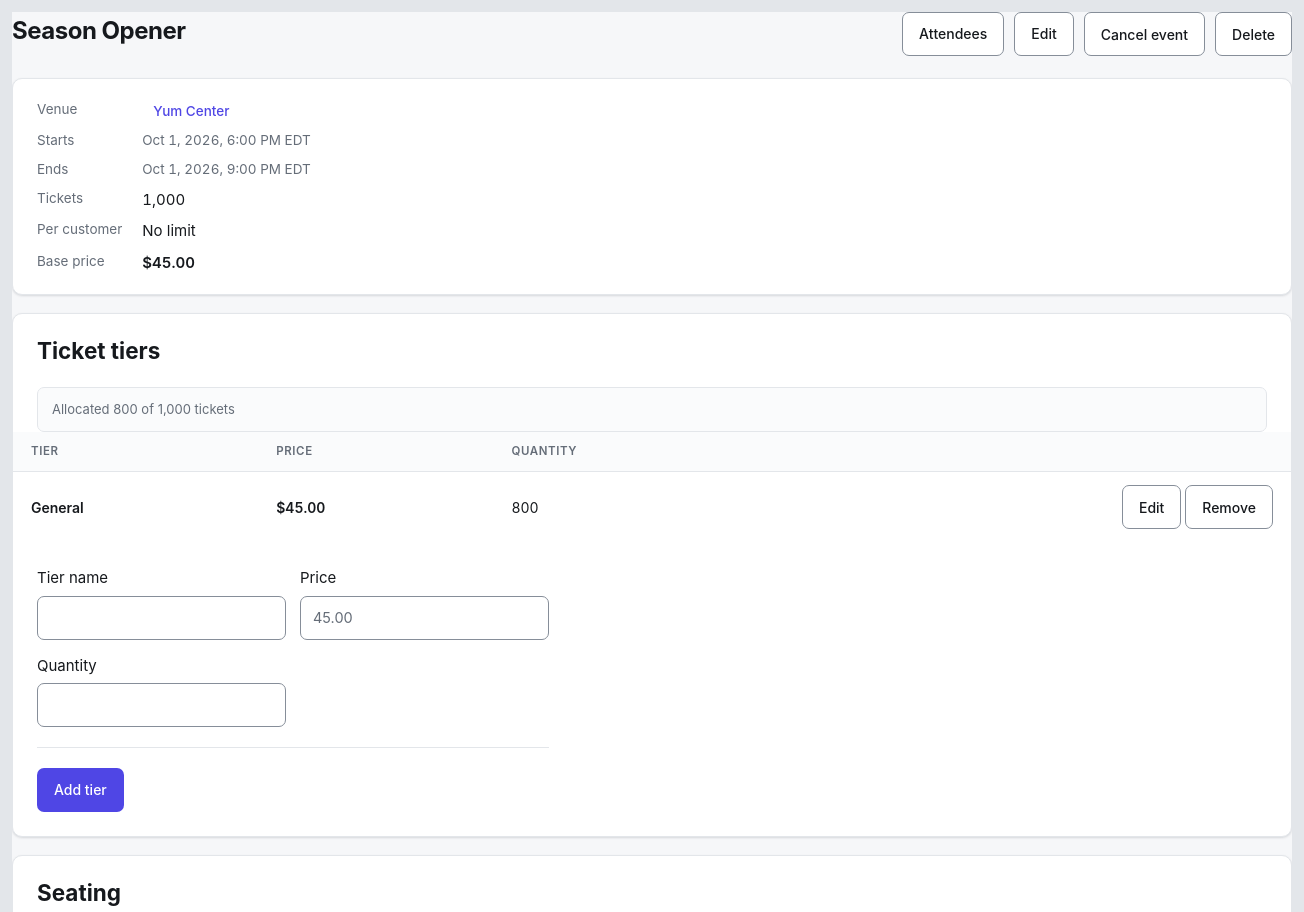
Test: Ticket tiers on the event page › shows a capacity refusal and keeps what was typed
Expected: the text "General" is shown, [13,472,258,542]
In the field labelled "Tier name": (162, 618) [37,596,286,640], type "VIP"
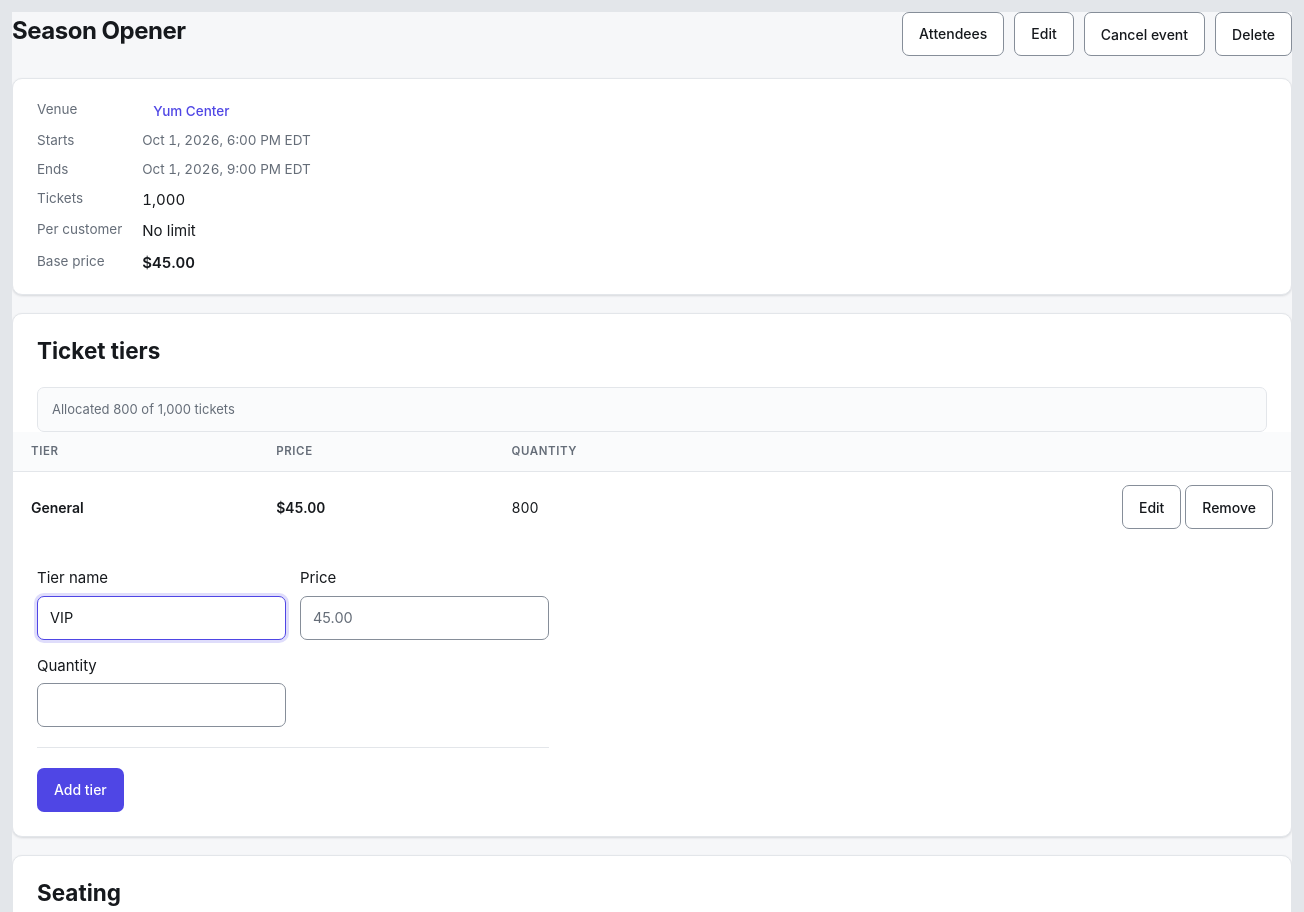
In the field labelled "Price": (424, 618) [300,596,549,640], type "120"
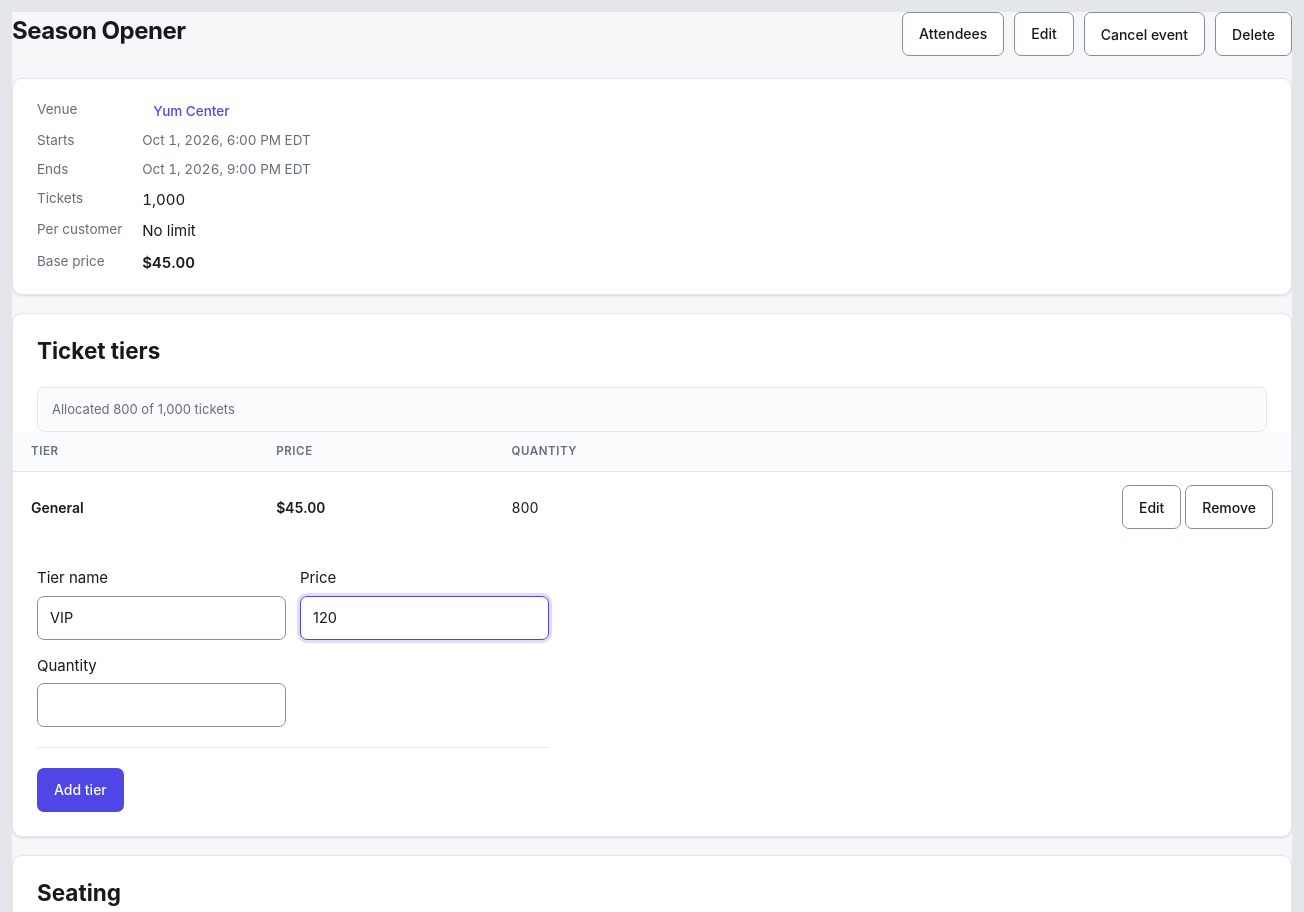
In the number field labelled "Quantity": (162, 705) [37,683,286,727], type "500"
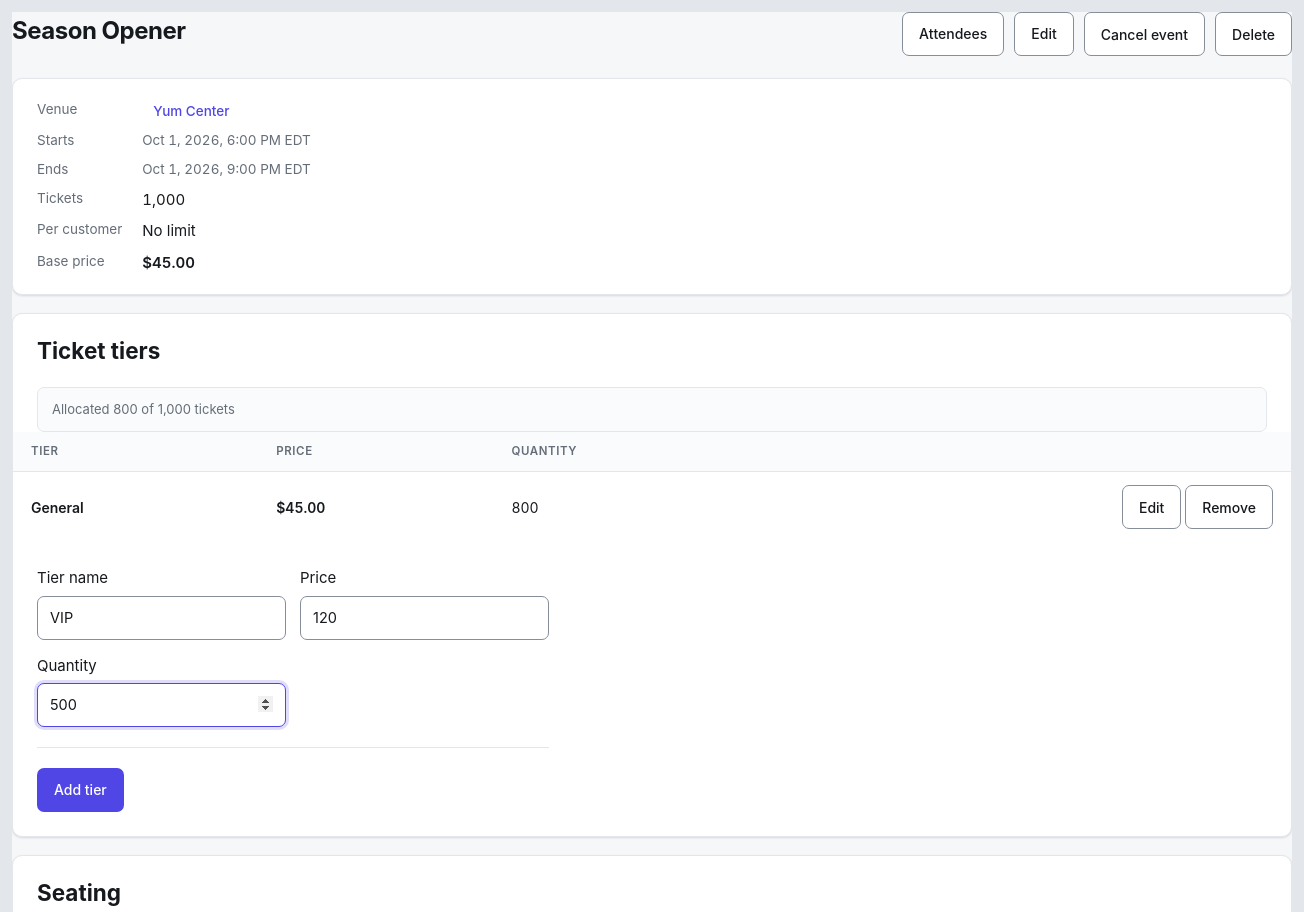
Click the button "Add tier": (80, 790) [37,768,124,812]
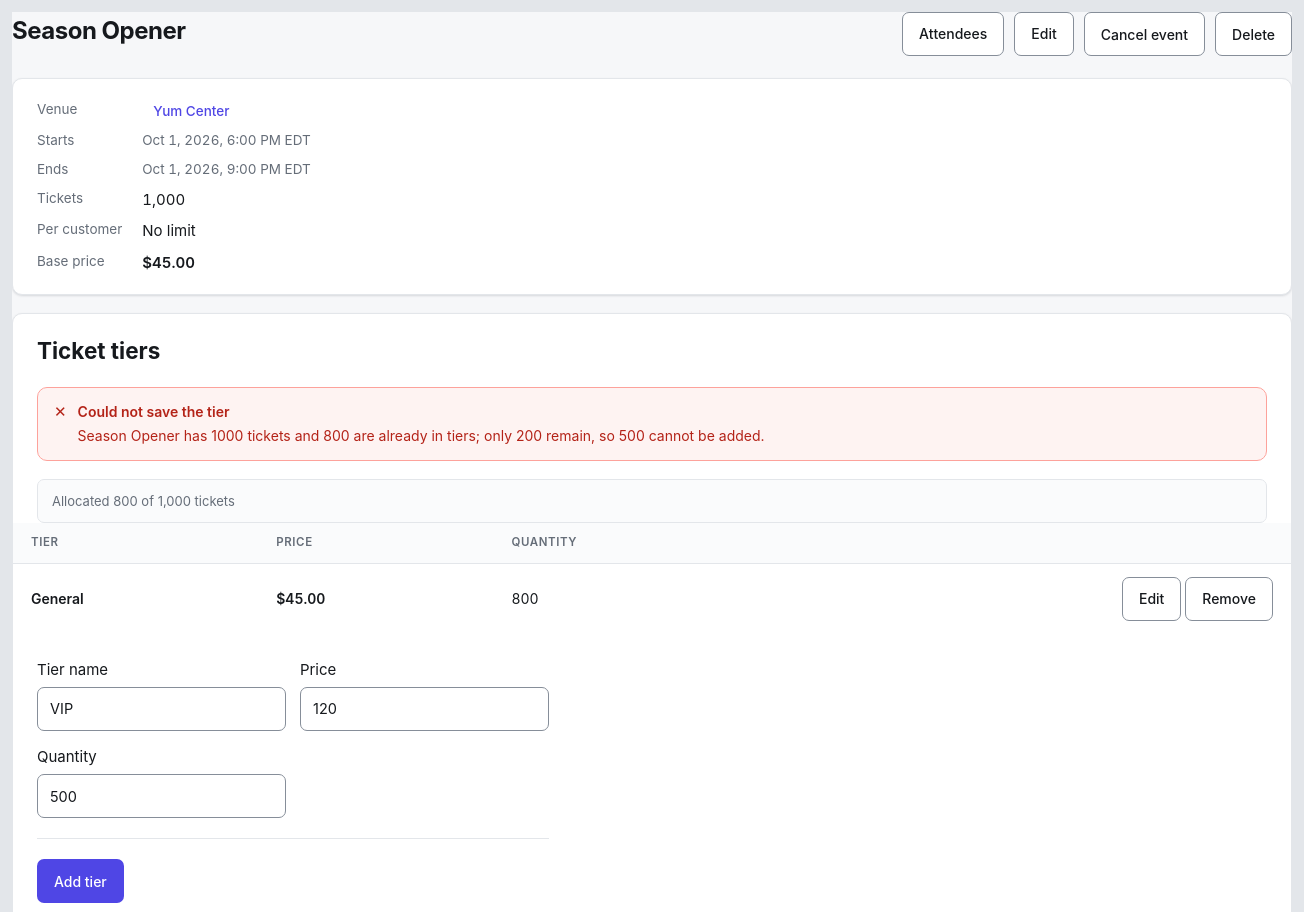
Result: the message shows "only 200 remain" at [78,427,765,444]
